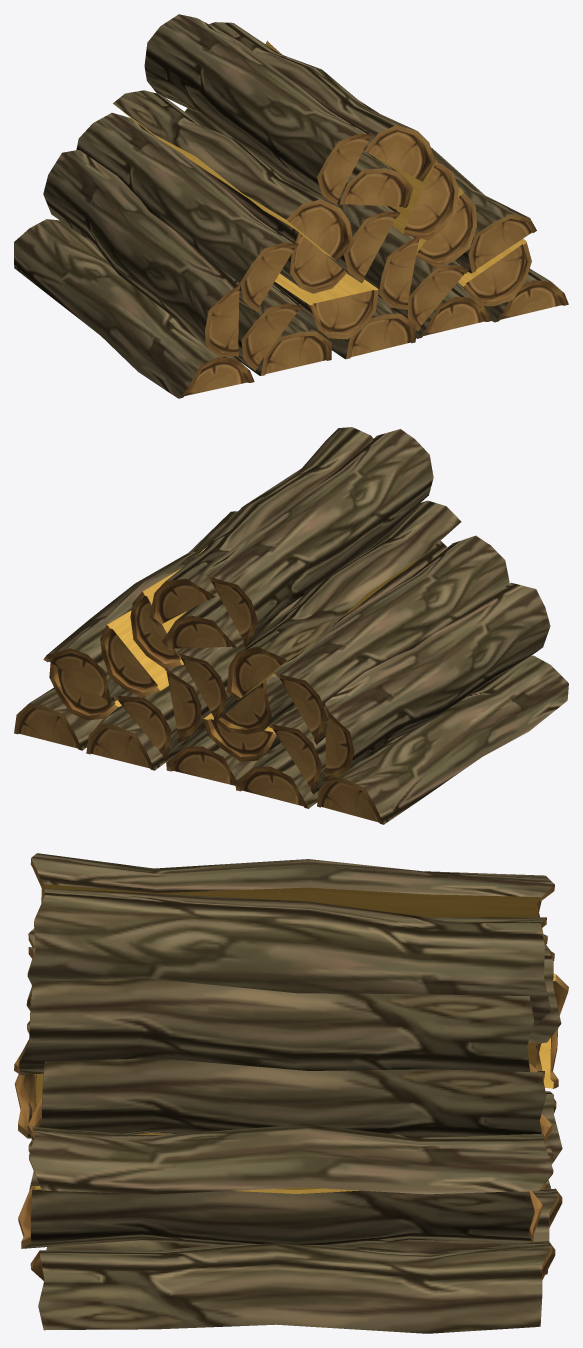
File: Pile02.fbx
The picture shows the model from 3 angles, top to bottom: view 1: azimuth 30°, elevation 25°; view 2: azimuth 150°, elevation 25°; view 3: azimuth 270°, elevation 25°; orthographic projection. The views are drawn at different scales.
Visible parts, largest first — view 1: Pile02_LOD0; view 2: Pile02_LOD0; view 3: Pile02_LOD0.
Part boxes in pixels (x1,y1,x2,y2): Pile02_LOD0: (14,14,568,398); Pile02_LOD0: (14,427,568,824); Pile02_LOD0: (14,853,568,1333).
Size of what is drawn, in the model's own units: 54.52 by 30.59 by 47.18.
